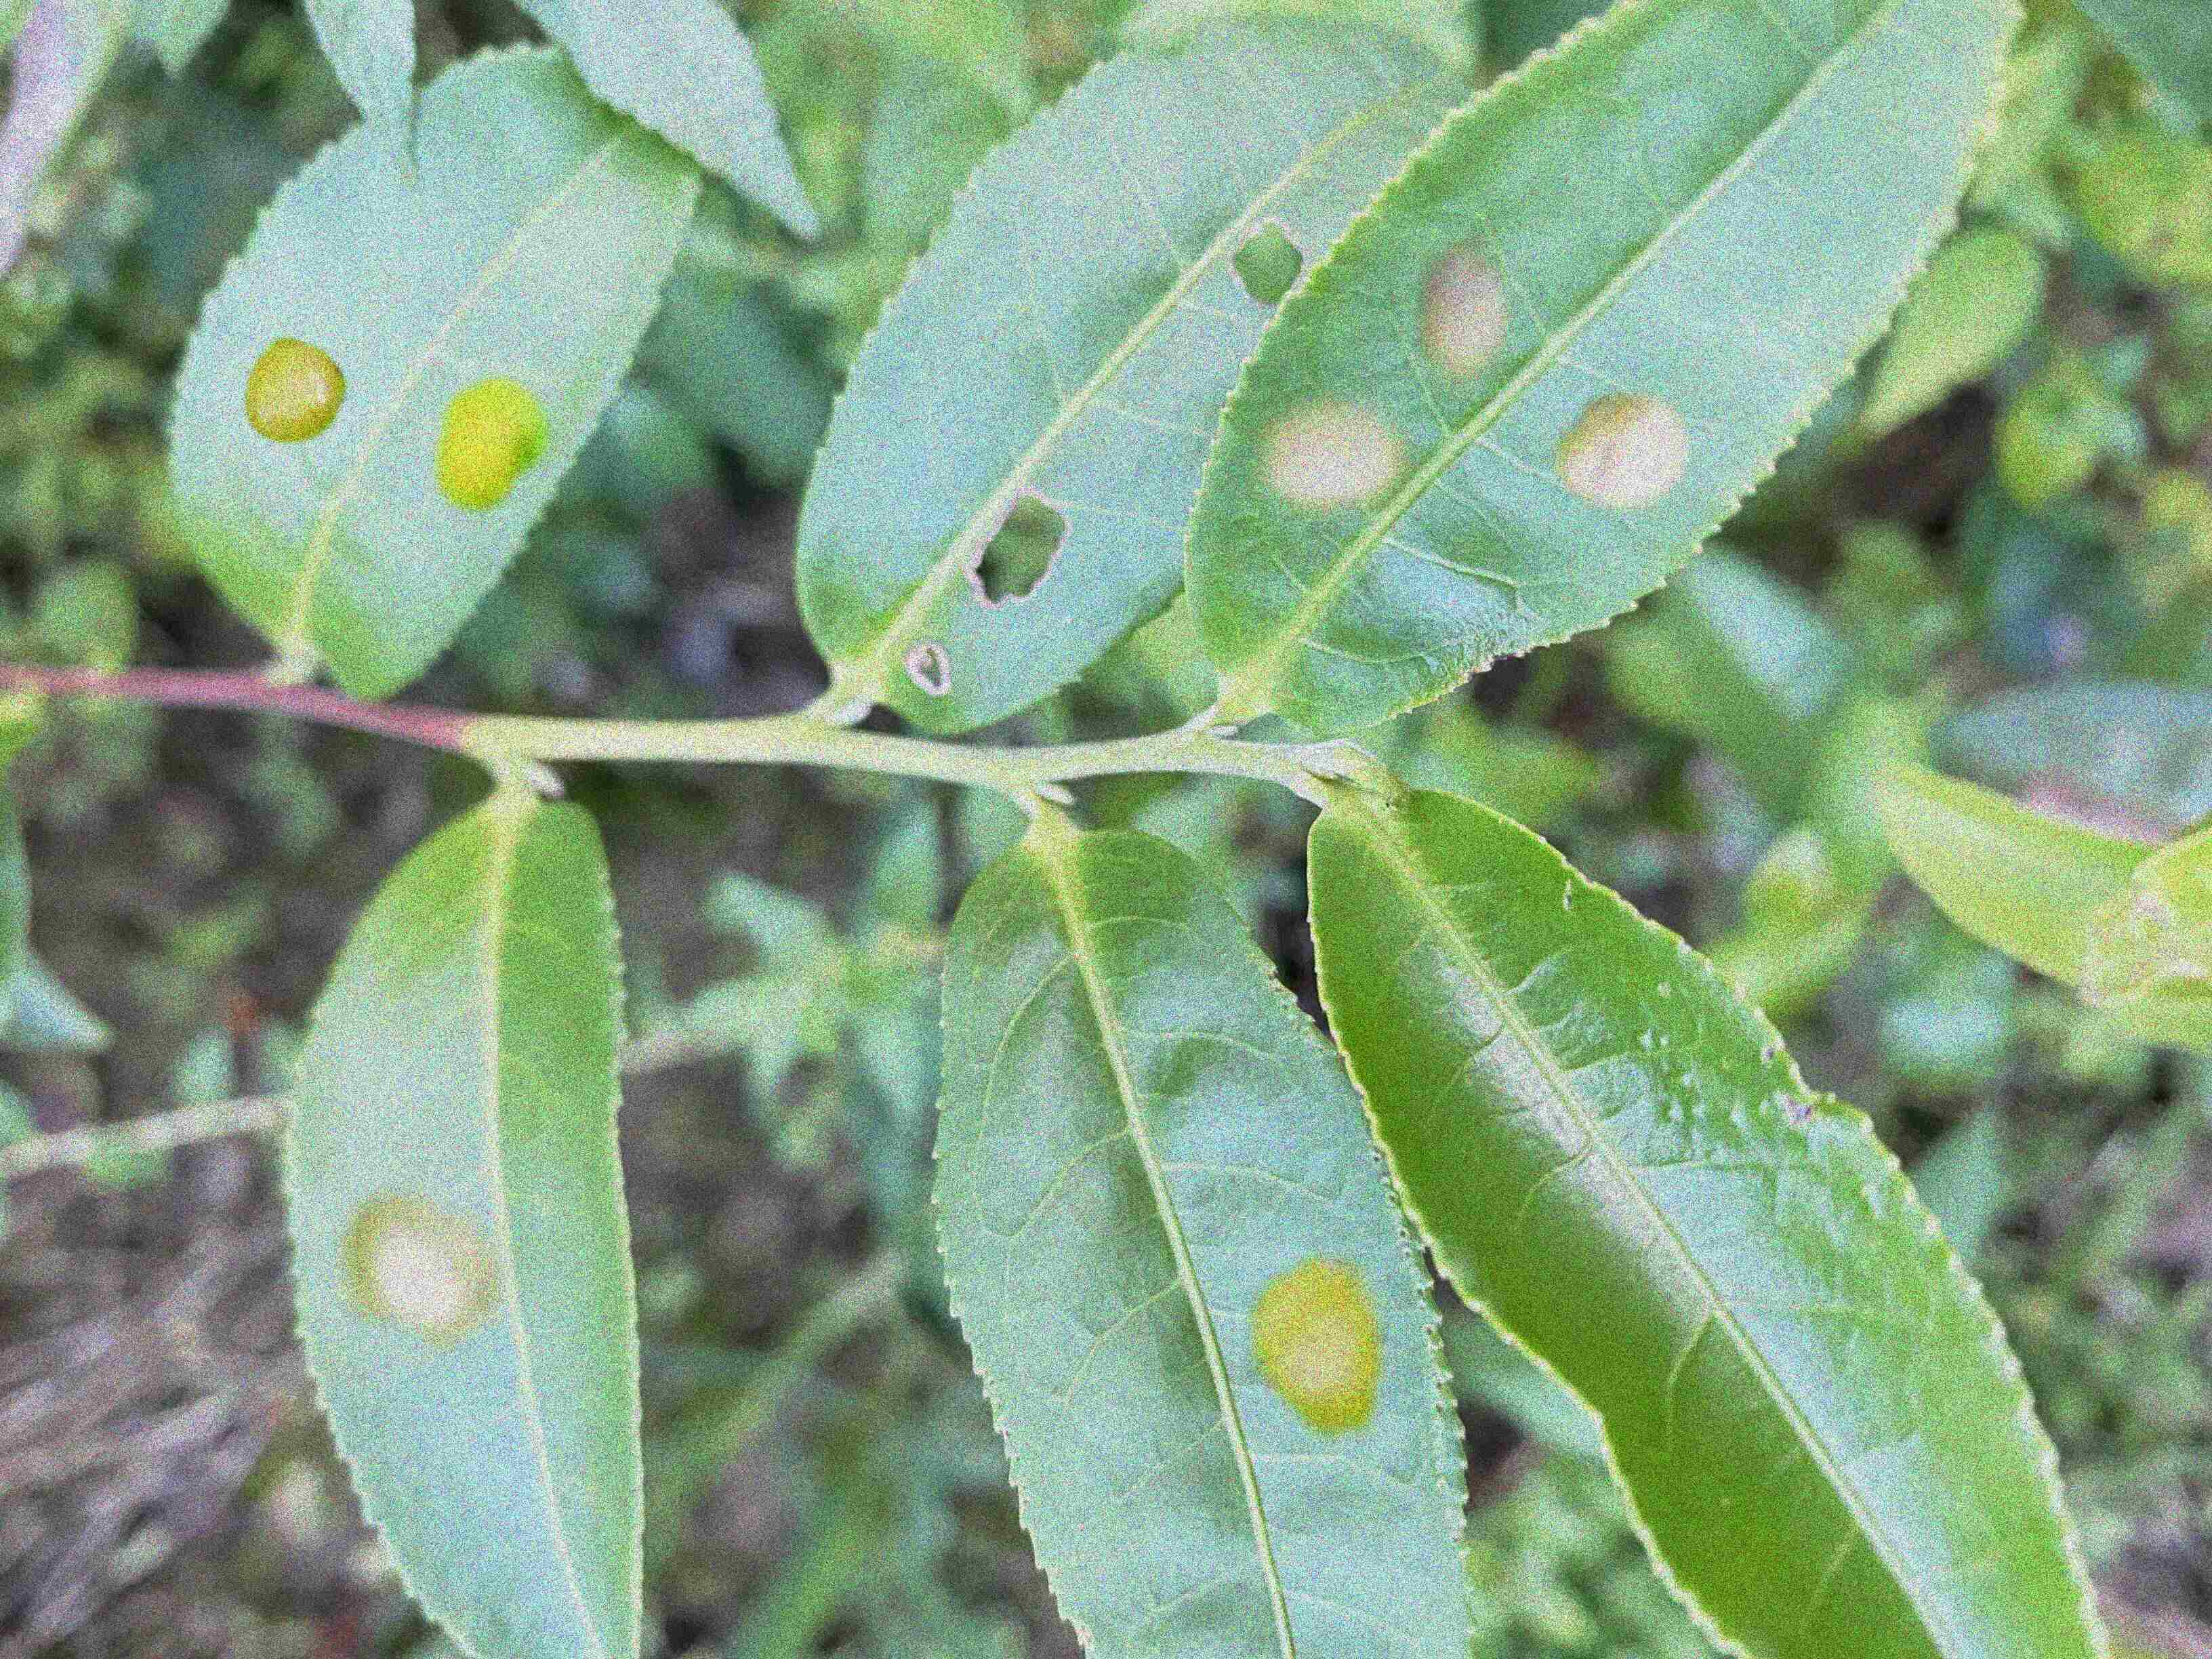chabing_high: (165, 45, 700, 702)
chabing_low: (925, 816, 1479, 1657), (280, 793, 646, 1657)
chihuo_high: (792, 17, 1465, 735)
healthy: (1186, 3, 2033, 732)
tanju_low: (1305, 788, 2109, 1657)
